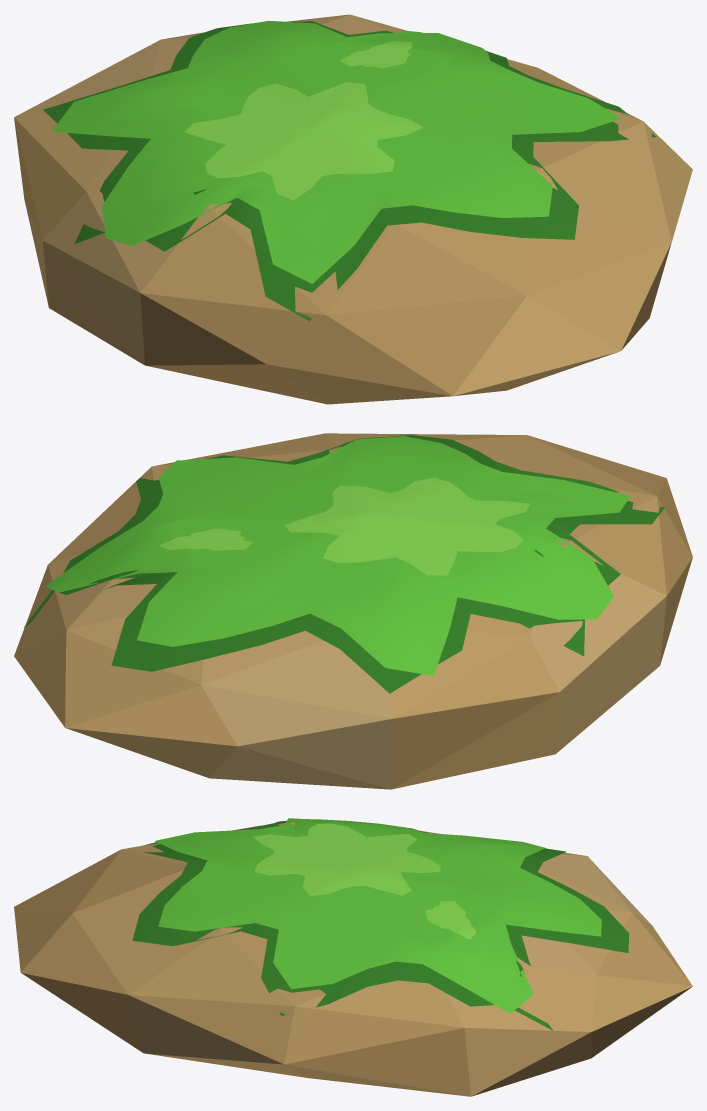
File: rock_1_cap.glb
The picture shows the model from 3 angles, top to bottom: view 1: azimuth 30°, elevation 25°; view 2: azimuth 150°, elevation 25°; view 3: azimuth 270°, elevation 25°; orthographic projection. The views are drawn at different scales.
Visible parts, largest first — view 1: rock_1_cap; view 2: rock_1_cap; view 3: rock_1_cap.
Boxes of the visible parts, x1,y1,x2,y2 form: rock_1_cap: (14, 14, 692, 404); rock_1_cap: (14, 433, 692, 789); rock_1_cap: (14, 818, 692, 1096).
Size of the model in its own units: 1.97 by 0.6279 by 2.6.
